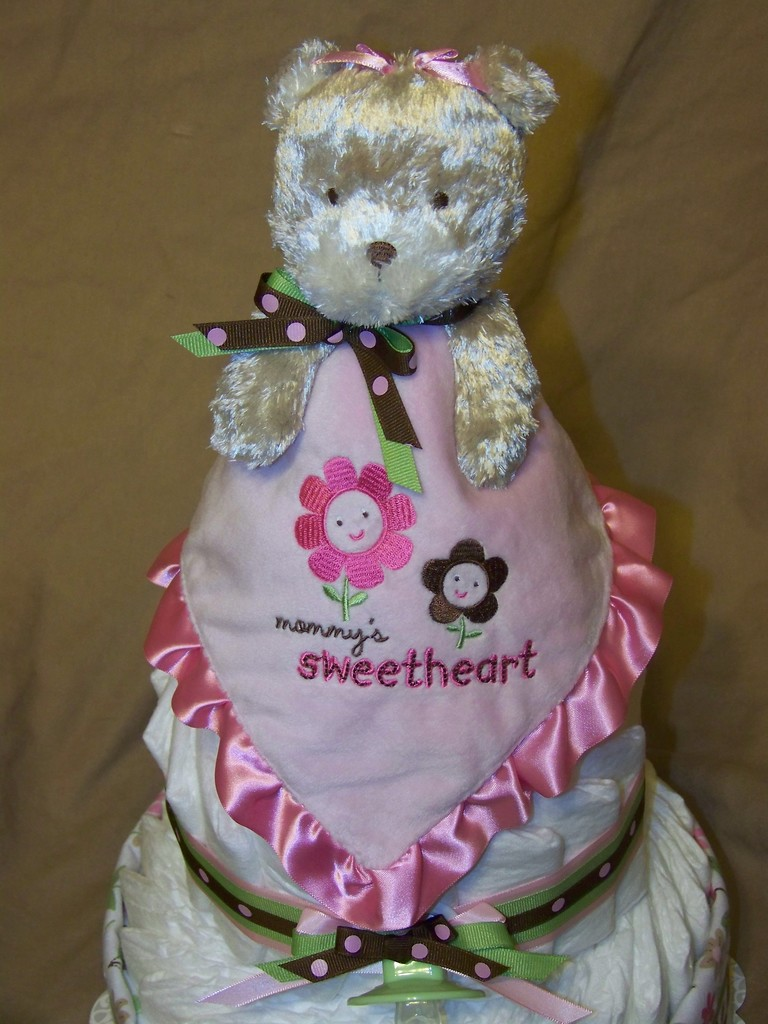cake: (93, 39, 753, 1023)
